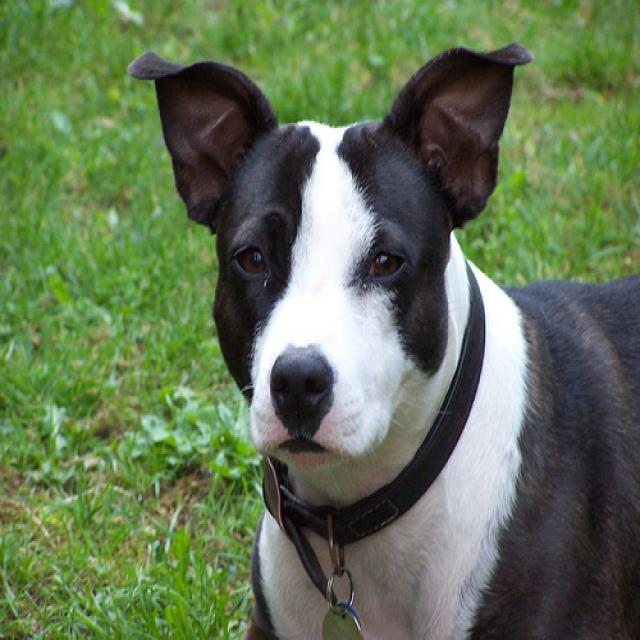dog-staffordshire_bull_terrier: (119, 27, 637, 637)
